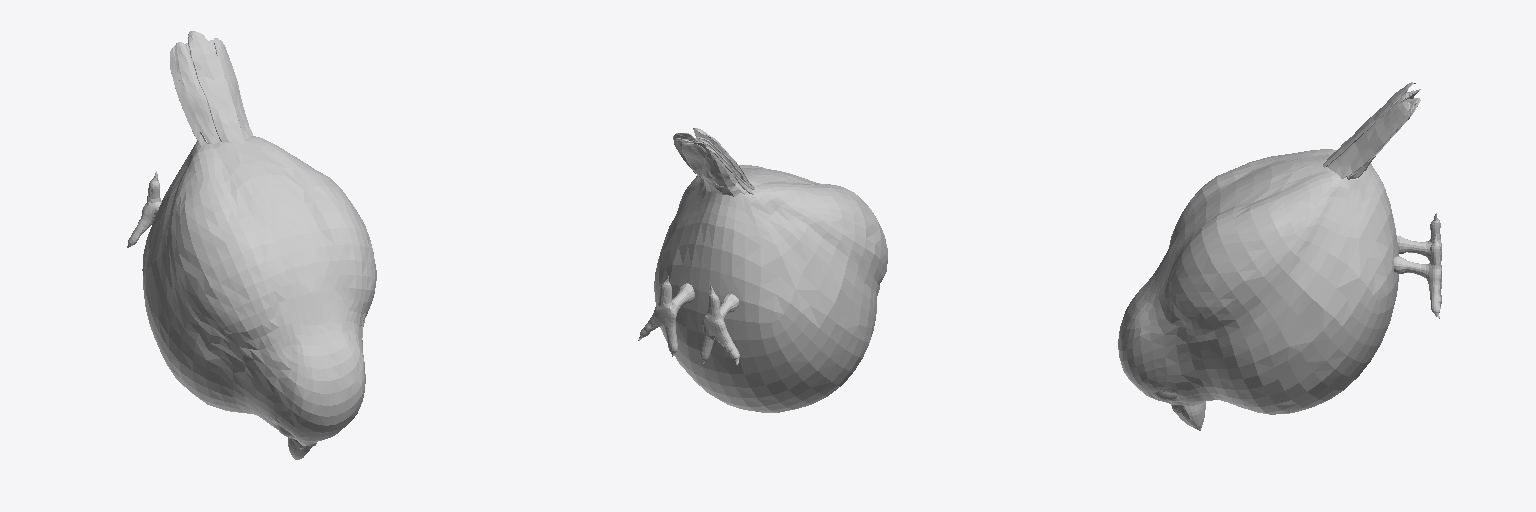
Rendered from Bird.obj.
The picture shows the model from 3 angles: view 1: azimuth 30°, elevation 25°; view 2: azimuth 150°, elevation 25°; view 3: azimuth 270°, elevation 25°; orthographic projection.
Visible parts, largest first — view 1: Object.1; view 2: Object.1; view 3: Object.1.
Part boxes in pixels (x1,y1,x2,y2): Object.1: (127,31,376,459); Object.1: (638,128,887,412); Object.1: (1118,82,1441,430).
Size of the model in its own units: 20.59 by 36.54 by 30.69.